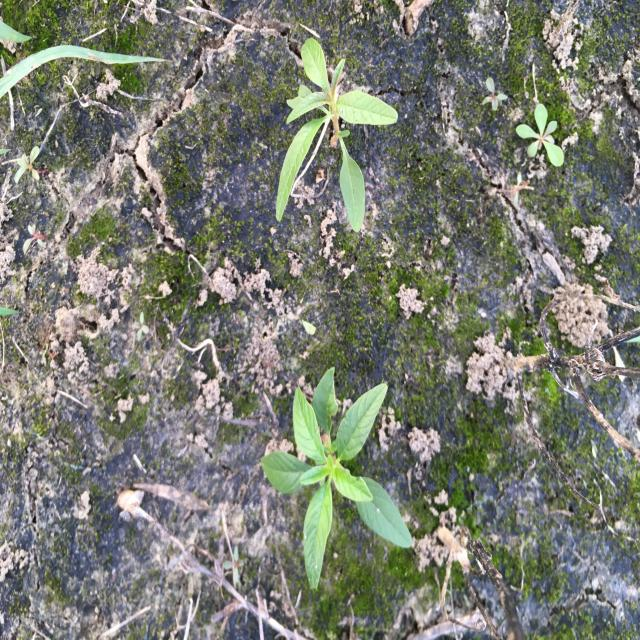Carpetweed: (514, 97, 566, 173)
Waterhemp: (260, 364, 414, 592), (274, 35, 399, 235)
